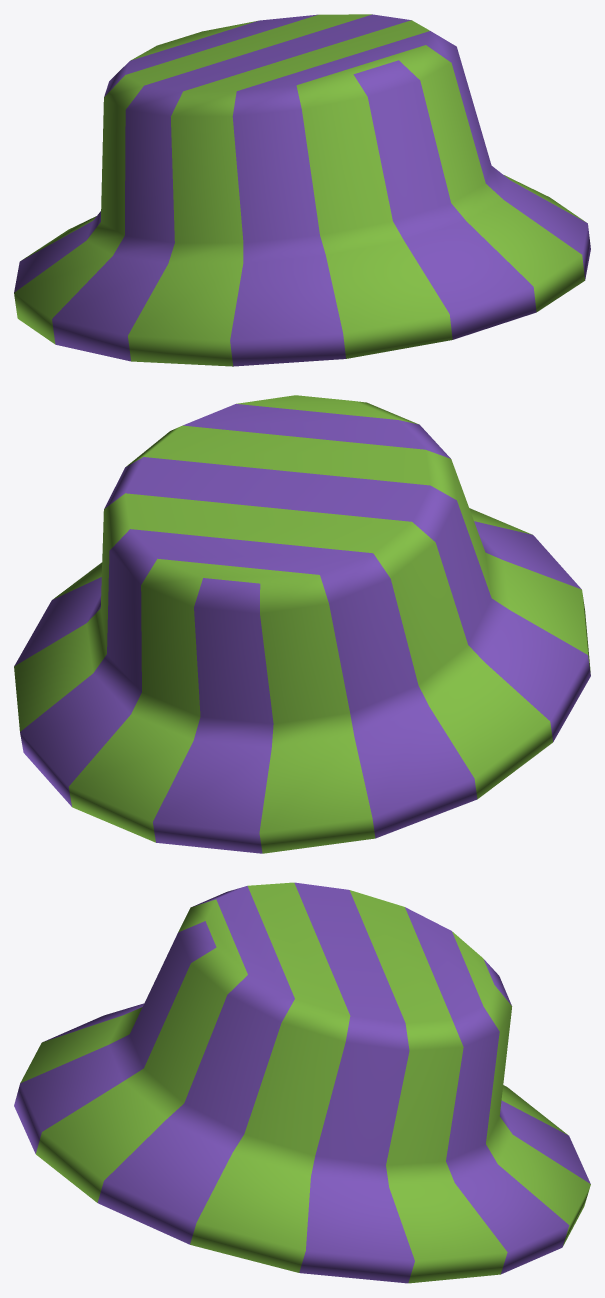
Rendered from buckethat.glb.
The picture shows the model from 3 angles, top to bottom: view 1: azimuth 30°, elevation 25°; view 2: azimuth 150°, elevation 25°; view 3: azimuth 270°, elevation 25°; orthographic projection. The views are drawn at different scales.
Visible parts, largest first — view 1: JA_m_Hat14; view 2: JA_m_Hat14; view 3: JA_m_Hat14.
Part boxes in pixels (x1,y1,x2,y2): JA_m_Hat14: [14, 14, 590, 366]; JA_m_Hat14: [14, 395, 590, 853]; JA_m_Hat14: [14, 882, 590, 1283].
Bounding box in the file's own units: 1.76 × 1 × 1.84.
